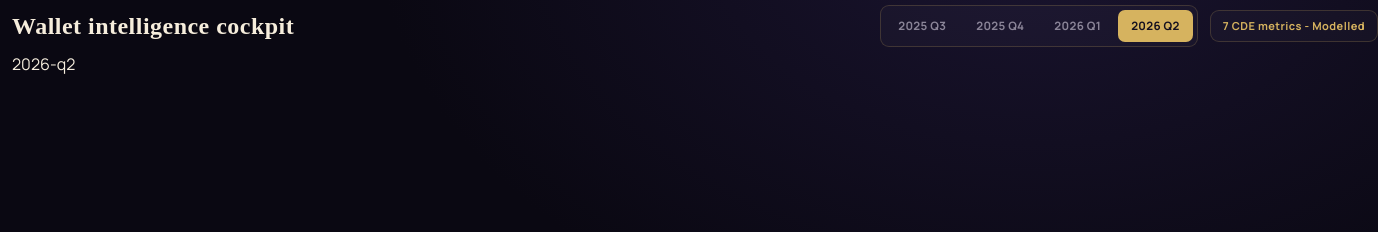
Test: TopBar › updates the selected reporting quarter from the accessible segmented selector
Expected: the text named "selected quarter" reads "2026-q2", left=12, top=53, right=75, bottom=75
Click the button "2026 Q1" at (1078,26), box left=1041, top=10, right=1114, bottom=42
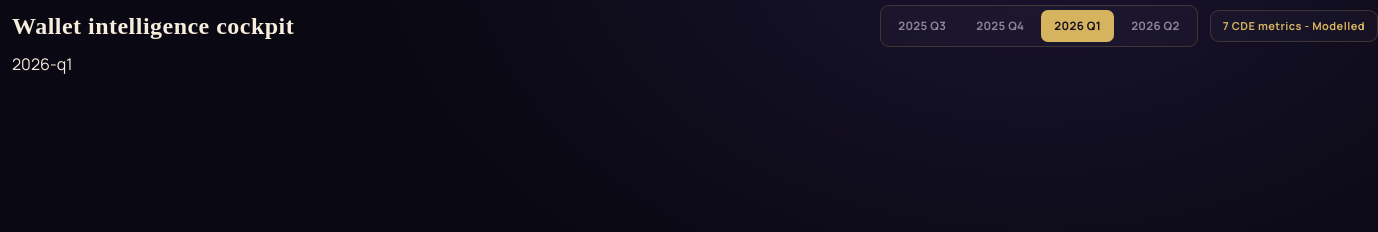
Expected: the text named "selected quarter" reads "2026-q1", left=12, top=53, right=72, bottom=75
